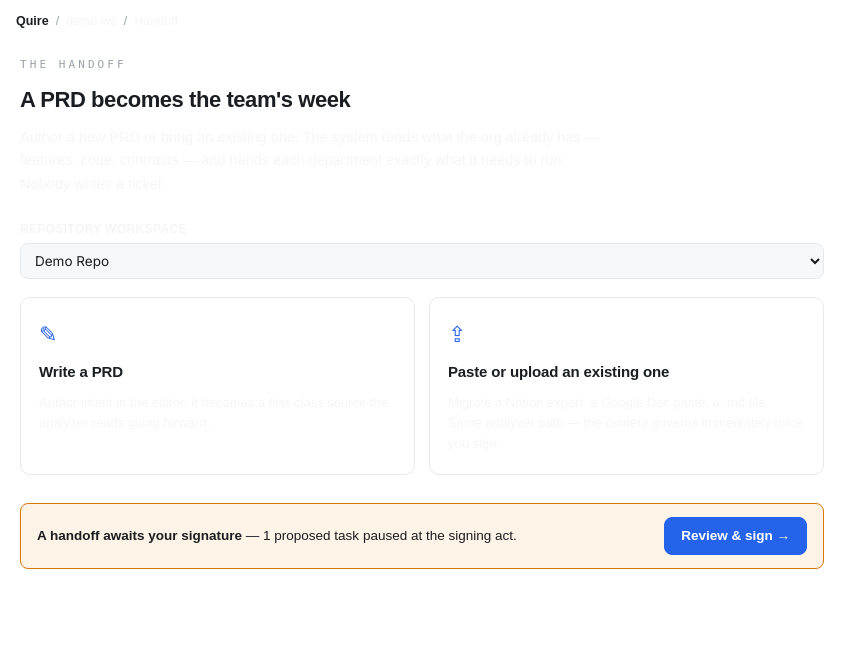
Scenario: Handoff surface — the settled week › offers a resume path when a proposed handoff exists
The image size is (841, 654).
Expected: the text "A handoff awaits your signature" is shown, [37, 528, 242, 543]
What coordinates should you click on to do the following:
click the button "Review & sign →"
I would click on:
 (736, 536)
Its box is [664, 517, 807, 555].
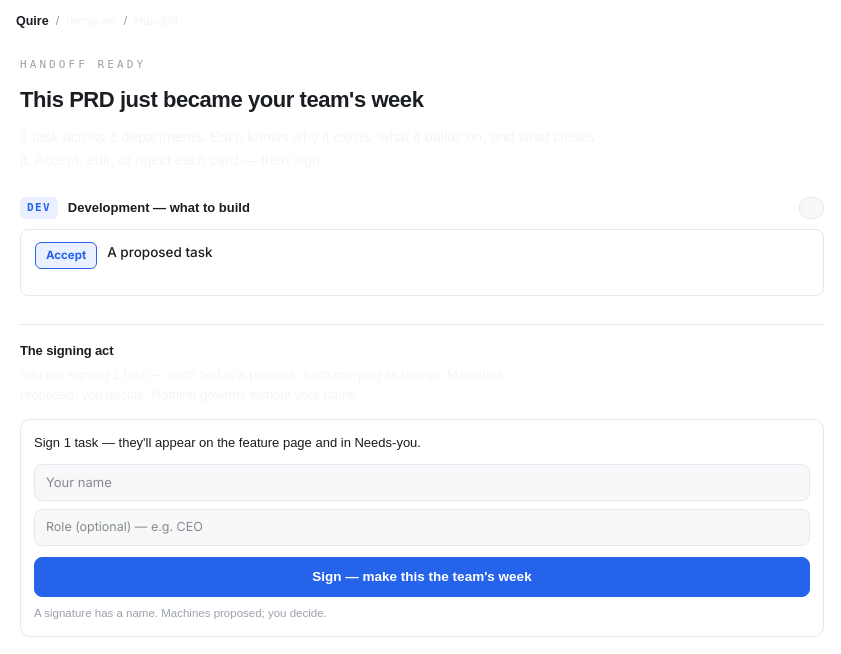
Expected: the text "The signing act" is shown, [20, 343, 113, 358]
Result: the text box showing "A proposed task" is shown at [107, 242, 809, 283]
